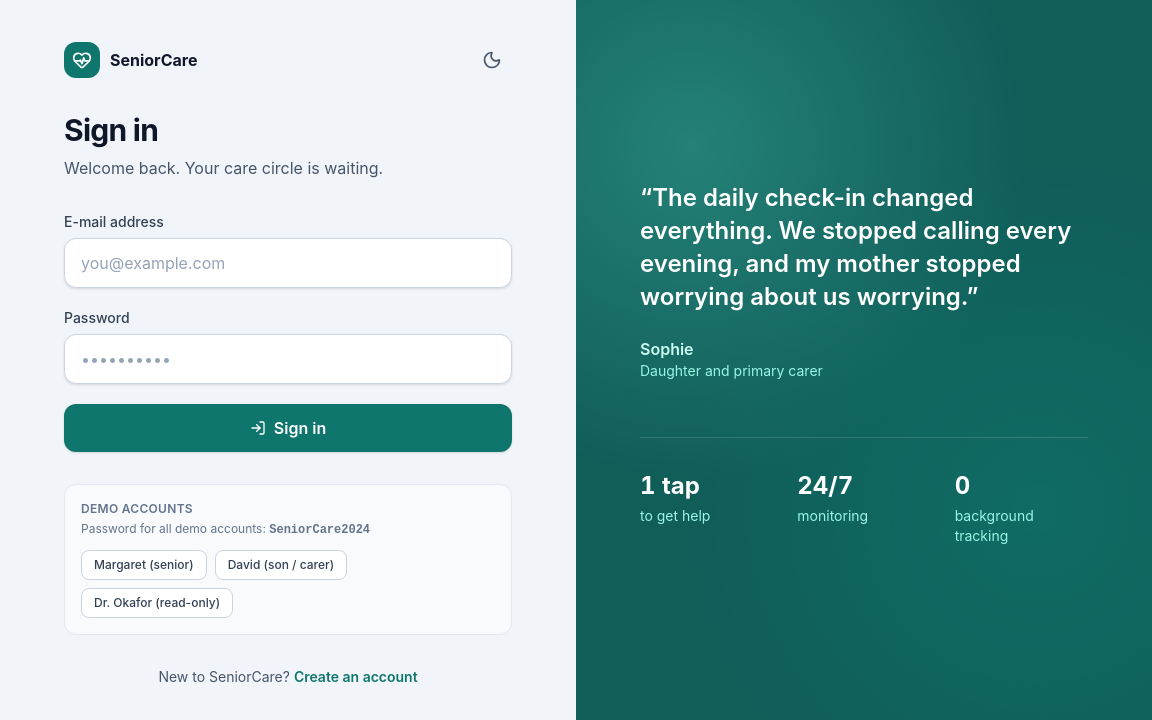
Test: Login form › rejects a malformed e-mail address
Type "not-an-email" into the field labelled "E-mail address" at point(288, 263), box 64,238 -> 512,288
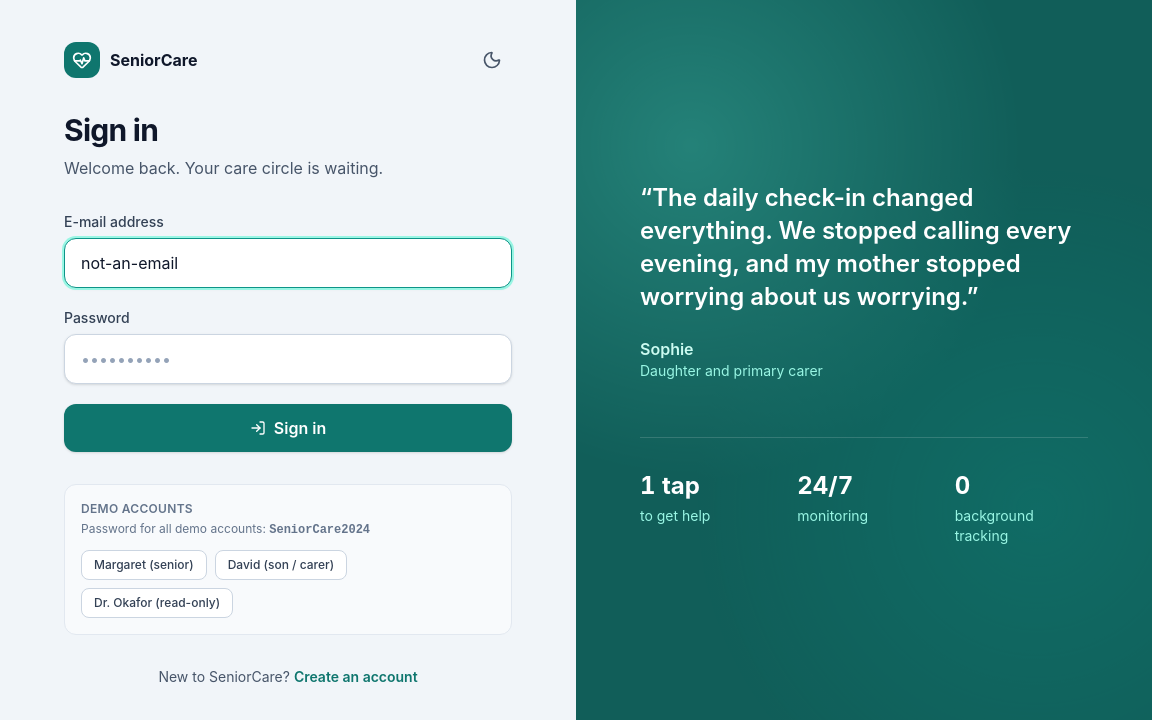
Type "SeniorCare2024" into the password field labelled "Password" at point(288, 359), box 64,334 -> 512,384
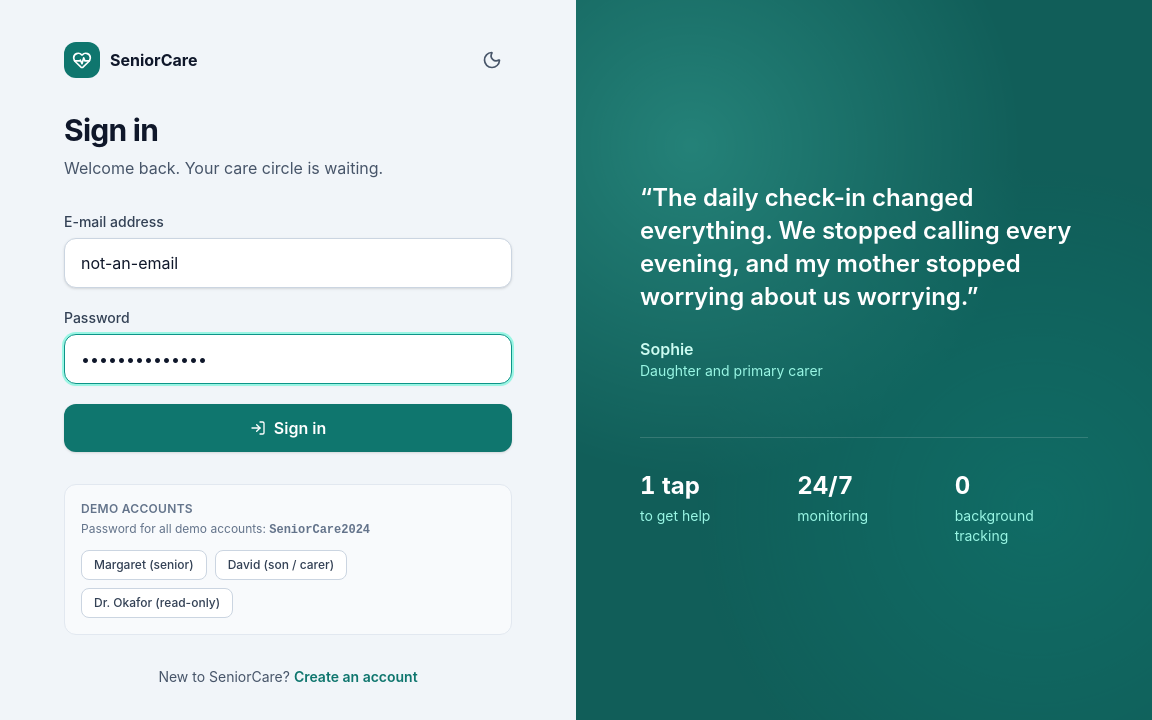
Click the button "Sign in" at point(288, 428), box 64,404 -> 512,452
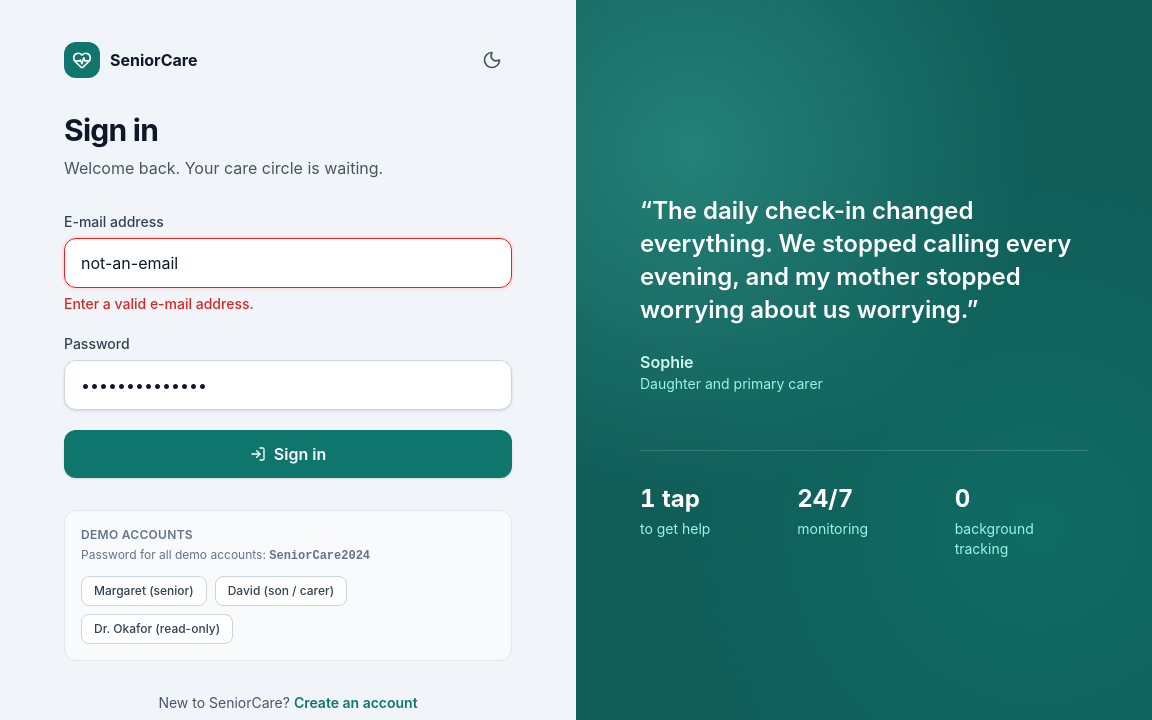
Expected: the text "Enter a valid e-mail address." is shown, 64,295 -> 254,312
